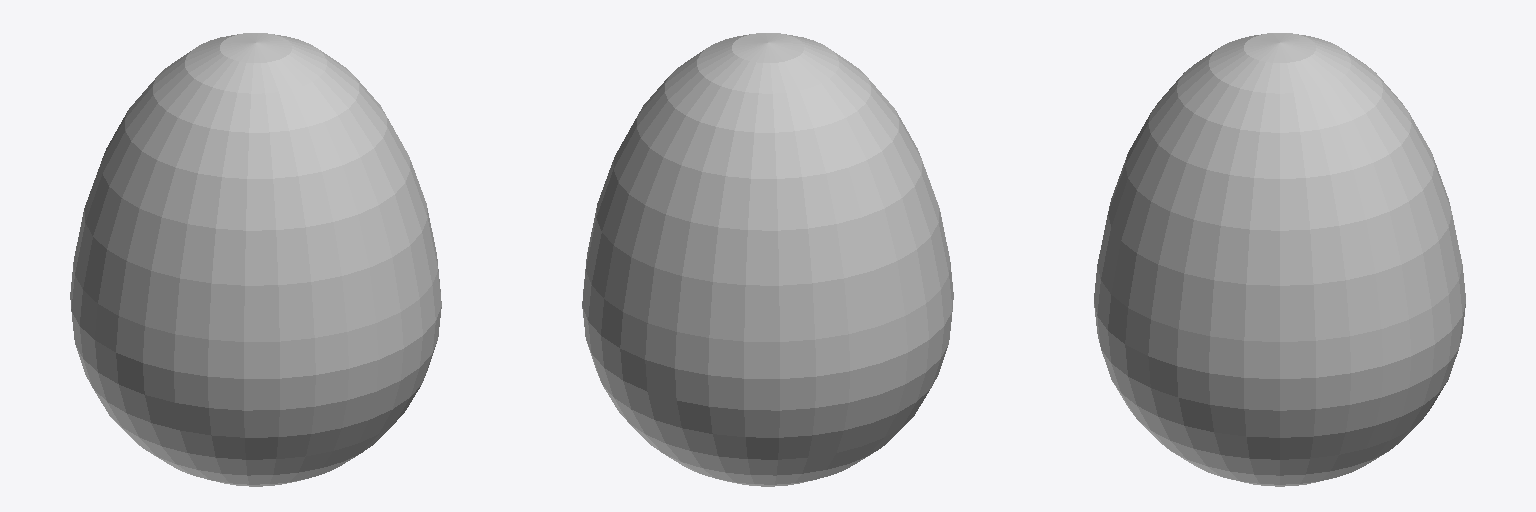
Rendered from egg.obj.
The picture shows the model from 3 angles: view 1: azimuth 30°, elevation 25°; view 2: azimuth 150°, elevation 25°; view 3: azimuth 270°, elevation 25°; orthographic projection.
Parts seen in each view (by area): view 1: Sphere; view 2: Sphere; view 3: Sphere.
Part boxes in pixels (bbox=[...]): Sphere: bbox=[70, 33, 441, 486]; Sphere: bbox=[582, 33, 953, 486]; Sphere: bbox=[1094, 33, 1465, 486].
Bounding box in the file's own units: 2 × 2.53 × 2.